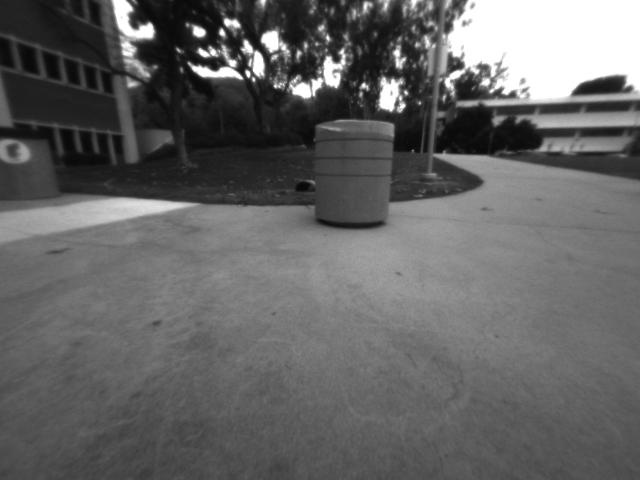trashcan: (305, 113, 399, 235), (1, 115, 67, 210)
